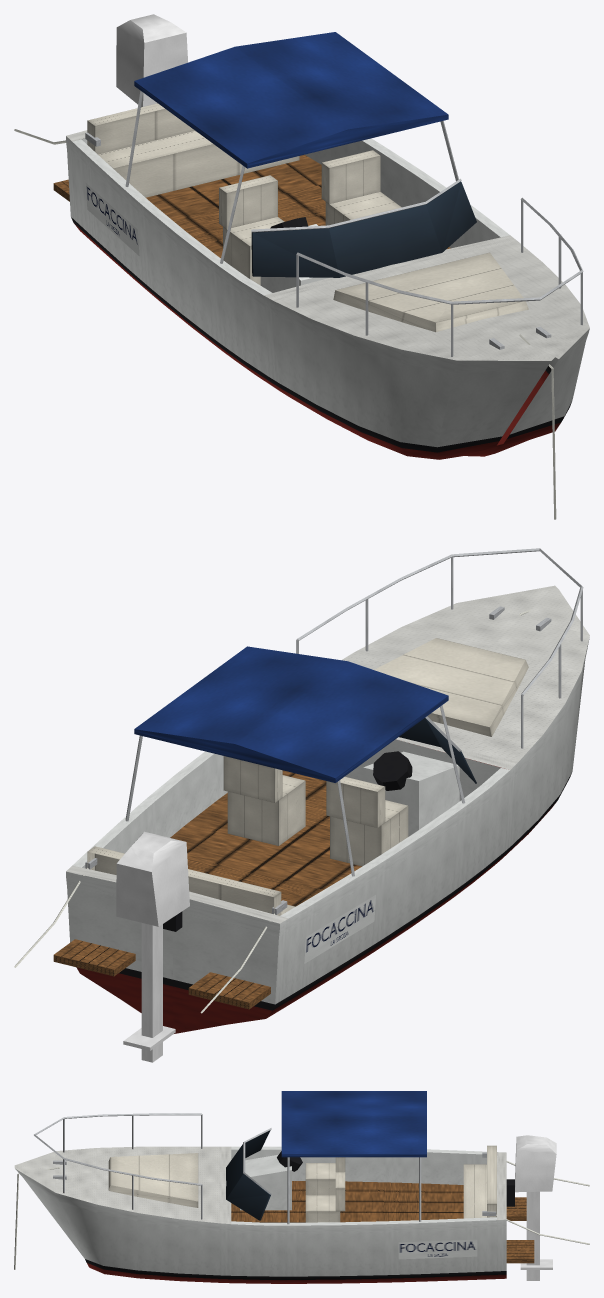
The model's file is SM_Morin_Barca_Motoscafo_TelaBlu.fbx.
3 views of the same model, one above another, from view 1: azimuth 30°, elevation 25°; view 2: azimuth 150°, elevation 25°; view 3: azimuth 270°, elevation 25° (orthographic). The views are drawn at different scales.
Parts seen in each view (by area): view 1: SM_Morin_Barca_Motoscafo_TelaBlu; view 2: SM_Morin_Barca_Motoscafo_TelaBlu; view 3: SM_Morin_Barca_Motoscafo_TelaBlu.
Boxes of the visible parts, box(x1,y1,x2,y2) form: SM_Morin_Barca_Motoscafo_TelaBlu: box(14, 14, 589, 519); SM_Morin_Barca_Motoscafo_TelaBlu: box(14, 548, 589, 1062); SM_Morin_Barca_Motoscafo_TelaBlu: box(14, 1091, 589, 1283).
Bounding box in the file's own units: 270 × 831 × 259.
Materials: 1 (1 with a texture image).
